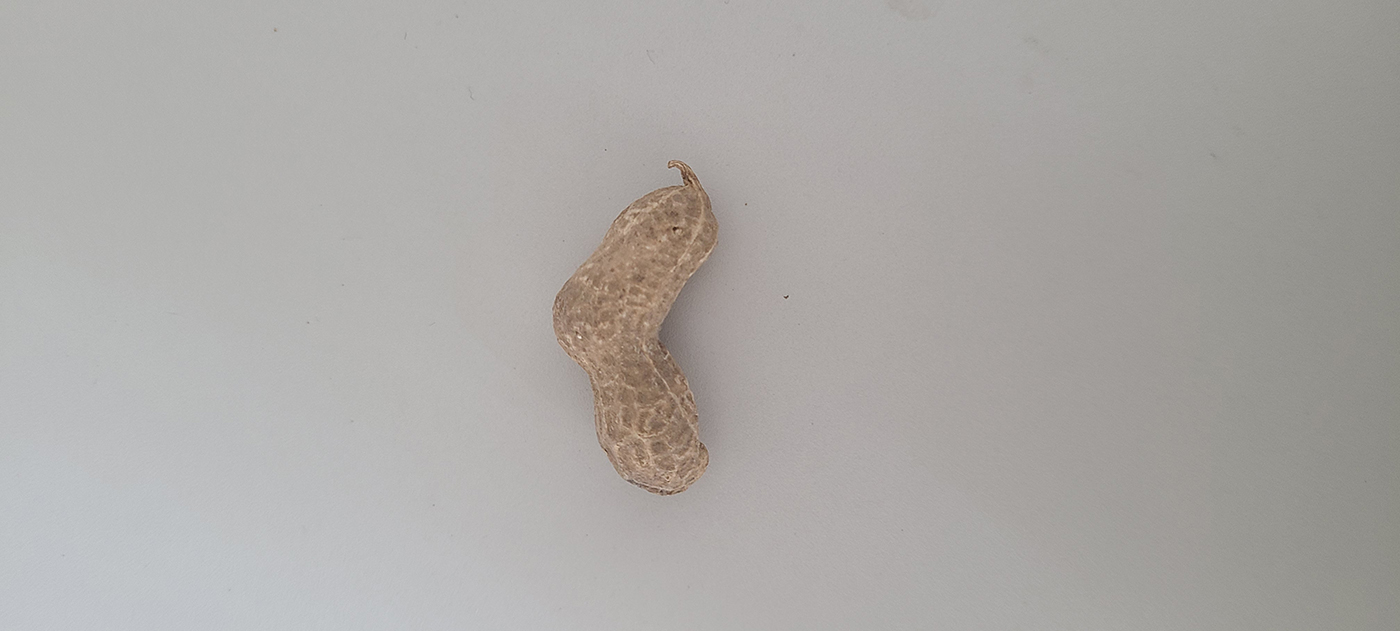h: (551, 182, 724, 502)
